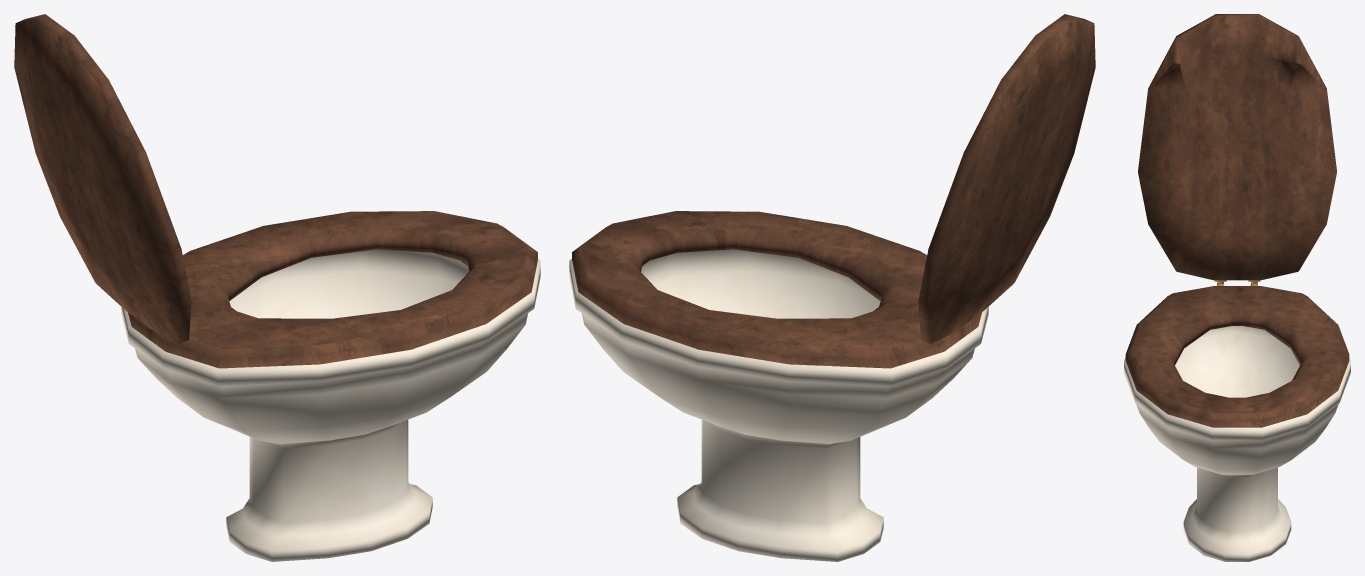
The model's file is 장애물_대변기.fbx.
The picture shows the model from 3 angles, left to right: view 1: azimuth 30°, elevation 25°; view 2: azimuth 150°, elevation 25°; view 3: azimuth 270°, elevation 25°; orthographic projection. The views are drawn at different scales.
Visible parts, largest first — view 1: 대변기; view 2: 대변기; view 3: 대변기.
Boxes of the visible parts, left/top/right/bottom form: 대변기: left=14, top=14, right=540, bottom=561; 대변기: left=569, top=14, right=1095, bottom=561; 대변기: left=1124, top=14, right=1350, bottom=561.
Size of the model in its own units: 75.12 by 85.67 by 42.41.
Materials: 1 (1 with a texture image).
